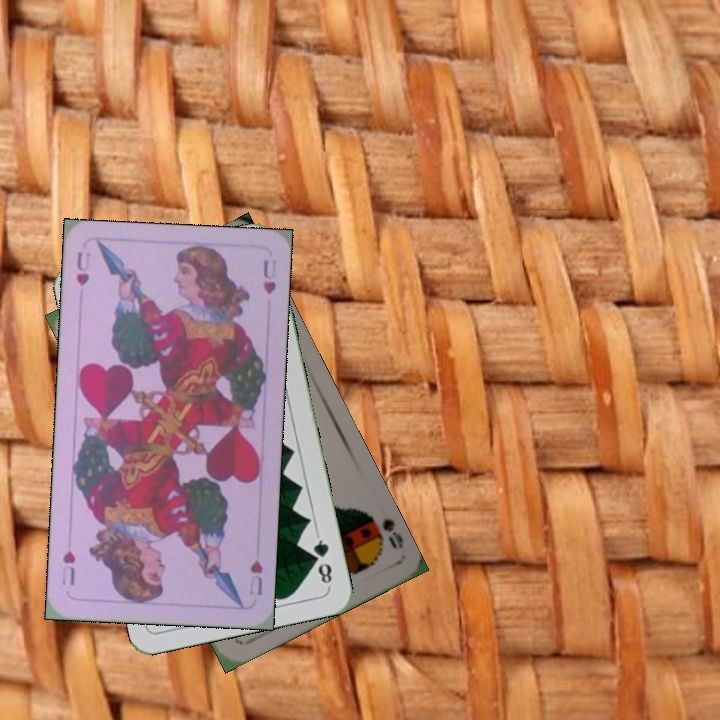G8: (309, 531, 335, 590)
HU: (245, 555, 266, 598), (72, 248, 93, 289)
SO: (361, 507, 407, 551)
